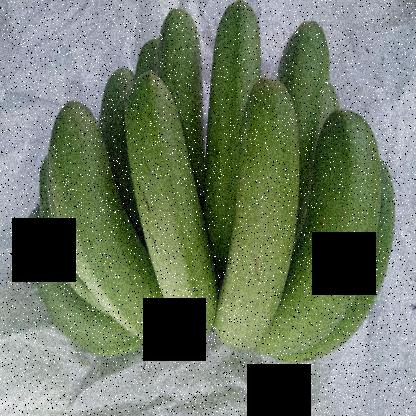freshunripe: (122, 70, 224, 348), (223, 80, 309, 358), (301, 103, 392, 364), (39, 104, 144, 307), (206, 1, 275, 161), (155, 13, 216, 150), (293, 12, 346, 148)
